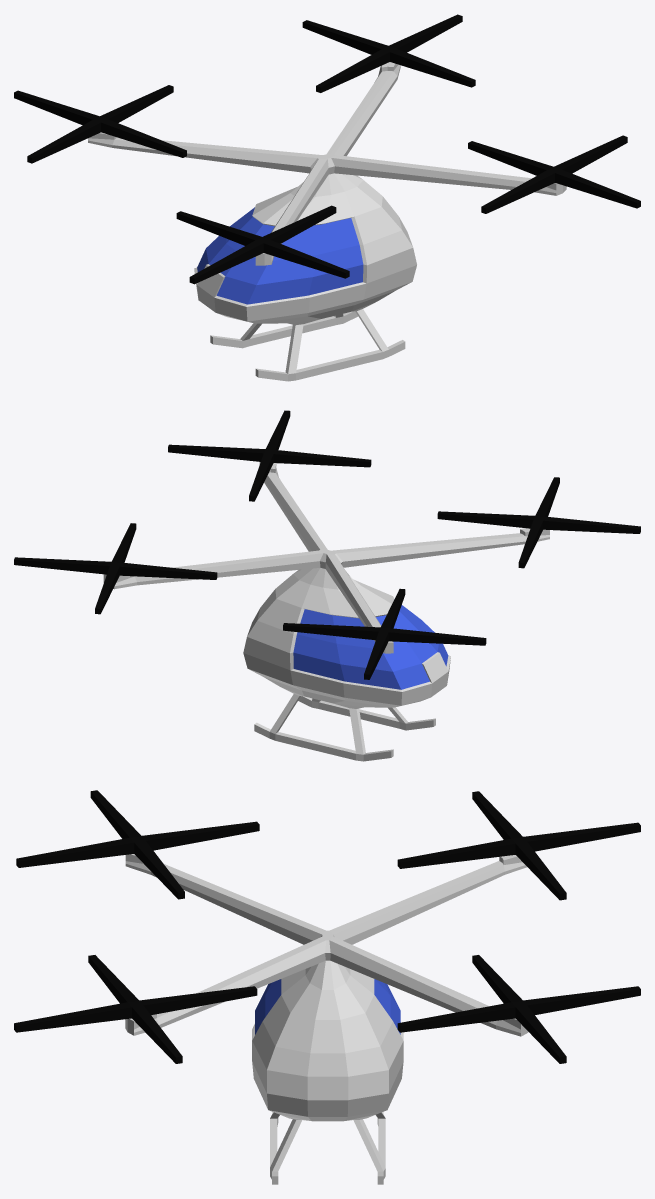
File: AirTaxi00.gltf
3 views of the same model, one above another, from view 1: azimuth 30°, elevation 25°; view 2: azimuth 150°, elevation 25°; view 3: azimuth 270°, elevation 25° (orthographic). The views are drawn at different scales.
Visible parts, largest first — view 1: DroneTaxi, Rotor00.001, Rotor00.002, Rotor00.003, Rotor00; view 2: DroneTaxi, Rotor00.003, Rotor00.001, Rotor00, Rotor00.002; view 3: DroneTaxi, Rotor00.001, Rotor00.002, Rotor00.003, Rotor00.
Part boxes in pixels (box(x1,y1,x2,y2)): DroneTaxi: box(88, 62, 566, 381); Rotor00.001: box(176, 205, 349, 284); Rotor00.002: box(302, 14, 475, 92); Rotor00.003: box(468, 135, 640, 213); Rotor00: box(14, 85, 186, 163); DroneTaxi: box(103, 462, 549, 761); Rotor00.003: box(168, 410, 371, 501); Rotor00.001: box(437, 477, 640, 568); Rotor00: box(283, 588, 486, 679); Rotor00.002: box(14, 523, 217, 614); DroneTaxi: box(125, 854, 528, 1184); Rotor00.001: box(16, 790, 259, 899); Rotor00.002: box(397, 955, 640, 1063); Rotor00.003: box(14, 955, 257, 1063); Rotor00: box(397, 791, 640, 900).
Size of the model in its own units: 10.43 by 4.31 by 10.34.
